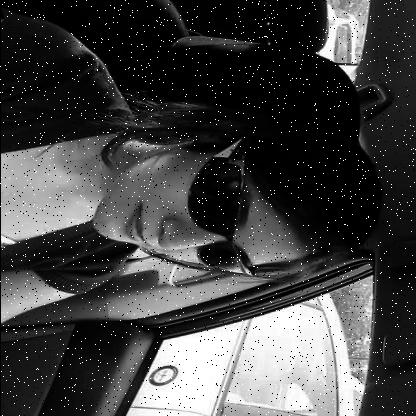no_seatbelt: (0, 72, 401, 303)
